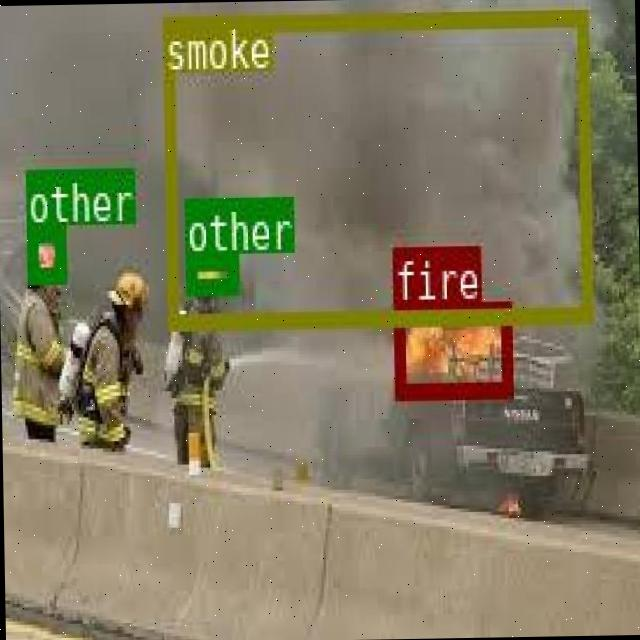fire: (392, 300, 510, 394)
smoke: (162, 9, 589, 324)
